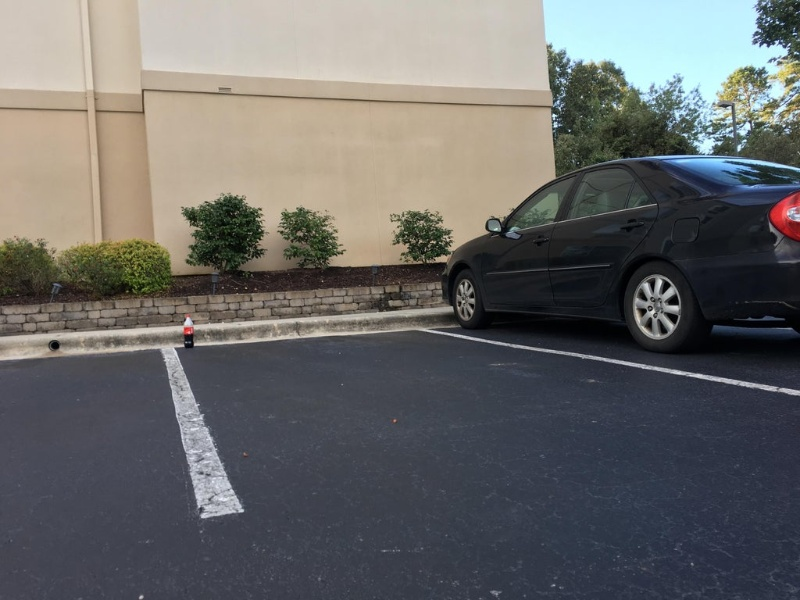Plastic bottle: (165, 299, 202, 371)
